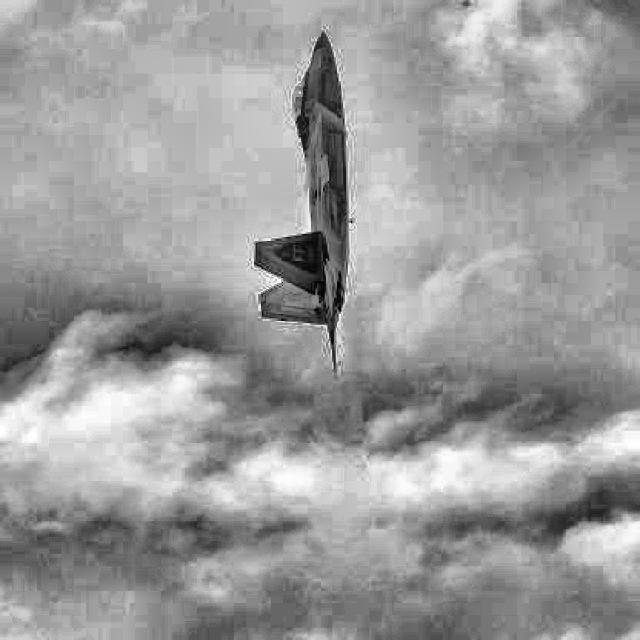F22: (253, 29, 355, 374)
